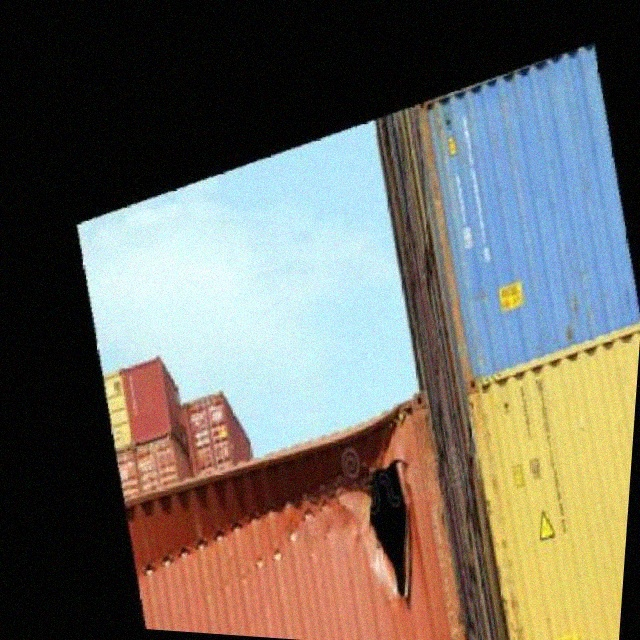Hole: (327, 429, 454, 622)
